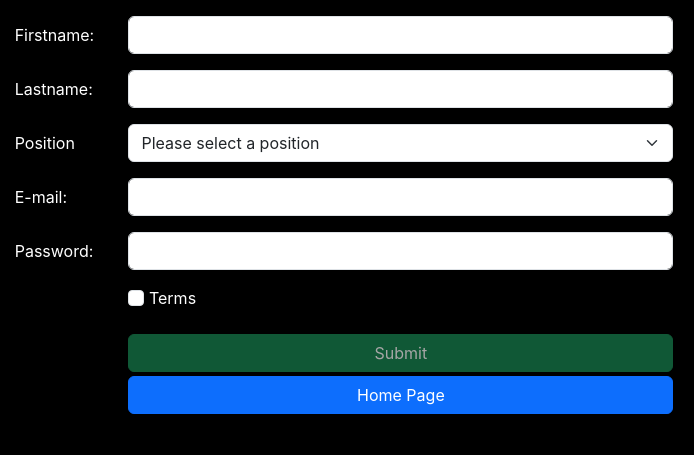
Form Tests › checks position input errors
Select "1" in the dropdown with test id "input-position" at (401, 143), box x1=128 y1=124 x2=673 y2=162
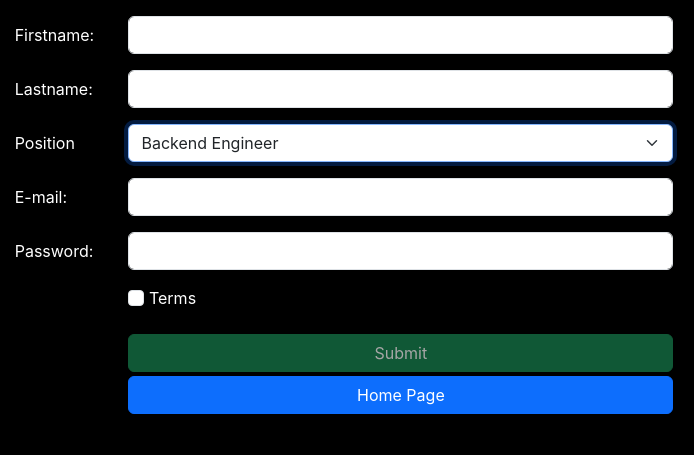
Select "0" in the dropdown with test id "input-position" at (401, 143), box x1=128 y1=124 x2=673 y2=162
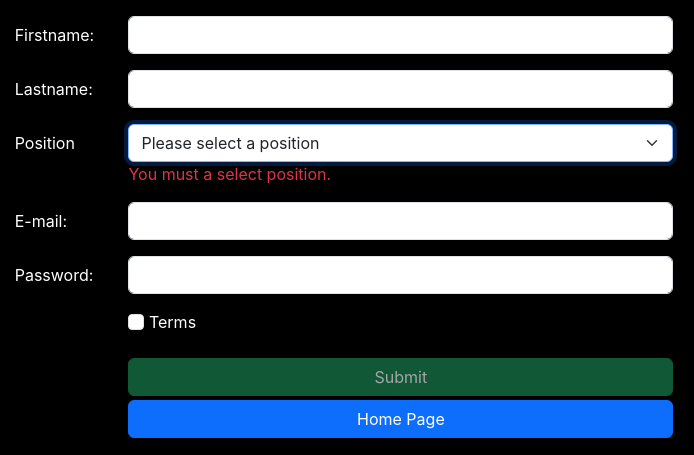
Check: the number of elements with test id "error" is 1, box x1=128 y1=164 x2=331 y2=184
Check: the text with test id "error" reads "You must a select position.", box x1=128 y1=164 x2=331 y2=184
